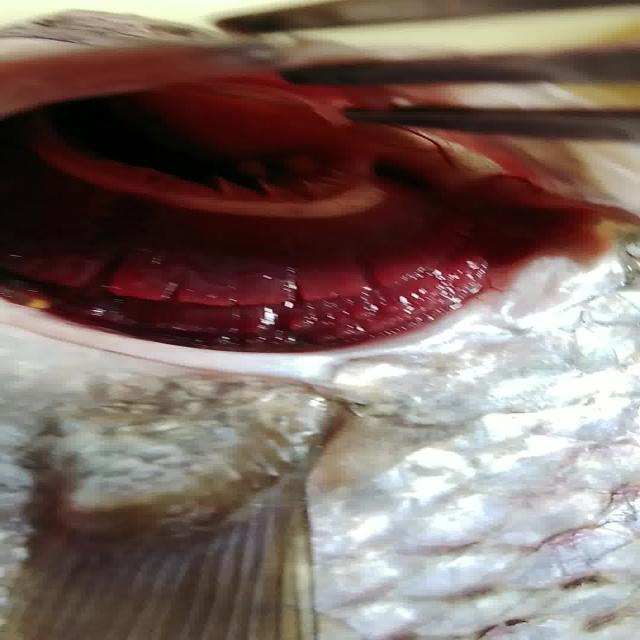Fresh: (4, 92, 619, 376)
